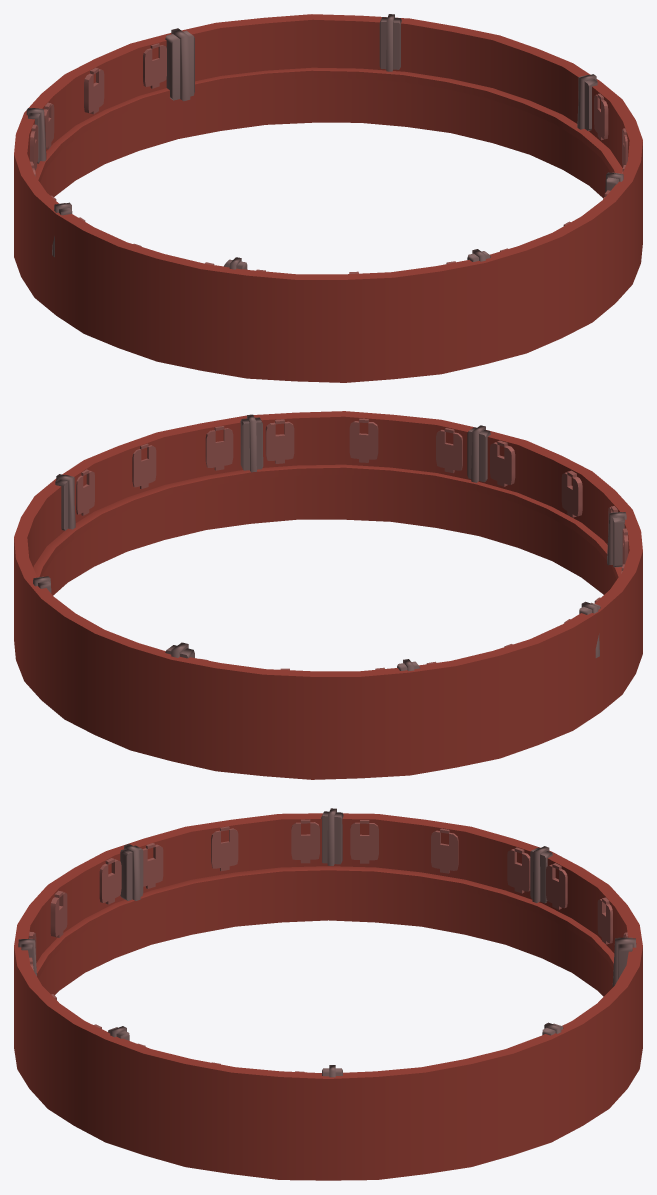
The model's file is NewWallNov12.fbx.
3 views of the same model, one above another, from view 1: azimuth 30°, elevation 25°; view 2: azimuth 150°, elevation 25°; view 3: azimuth 270°, elevation 25° (orthographic).
Visible parts, largest first — view 1: pasted__pasted__pasted__pasted__pasted__group12_pasted__past; view 2: pasted__pasted__pasted__pasted__pasted__group12_pasted__past; view 3: pasted__pasted__pasted__pasted__pasted__group12_pasted__past.
Part boxes in pixels (x1,y1,x2,y2): pasted__pasted__pasted__pasted__pasted__group12_pasted__past: [14, 14, 642, 382]; pasted__pasted__pasted__pasted__pasted__group12_pasted__past: [14, 411, 642, 779]; pasted__pasted__pasted__pasted__pasted__group12_pasted__past: [14, 808, 642, 1180].
Bounding box in the file's own units: 9.55 × 1.82 × 9.53.
